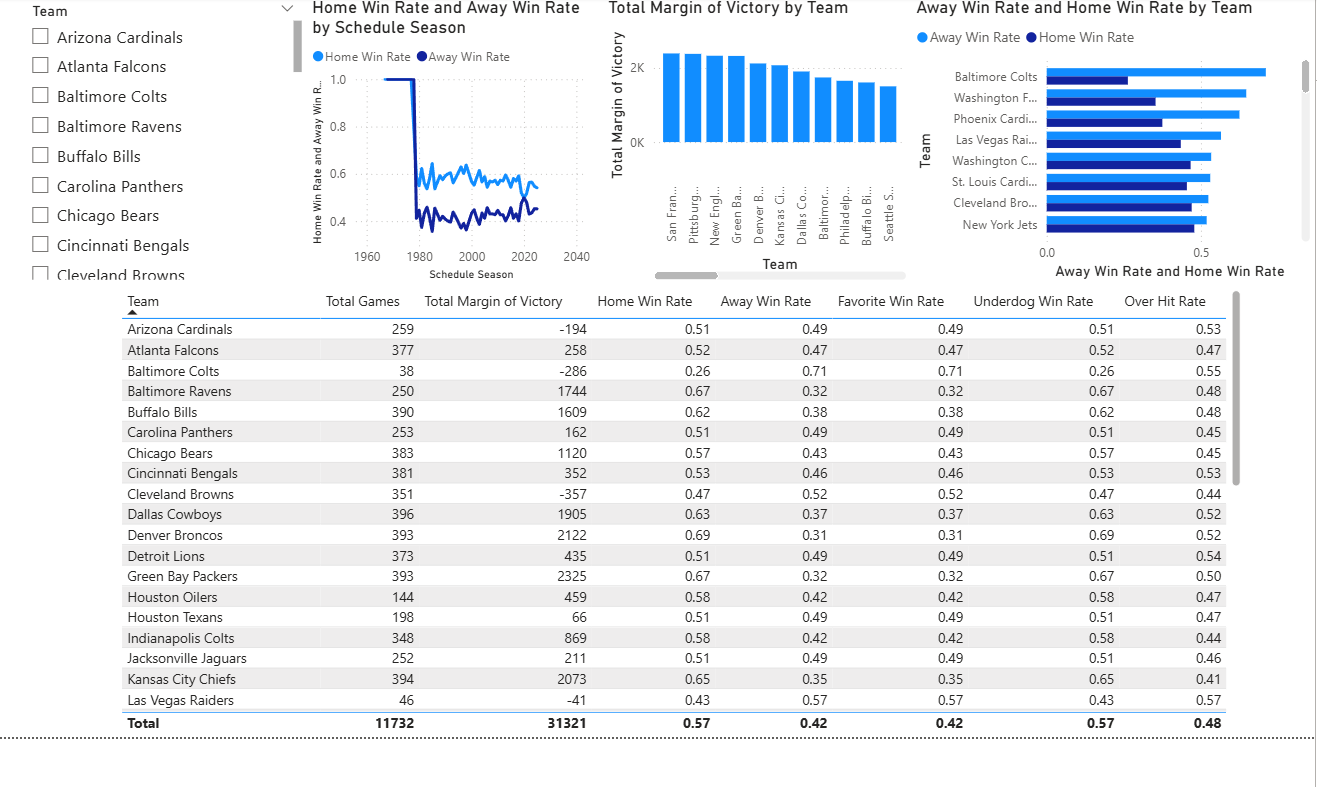

What the dashboard file says about the page in this screenshot:
{"tool":"powerbi","page":{"name":"Team Performance","canvas":[1280,720],"ordinal":1},"visuals":[{"type":"clusteredColumnChart","fields":{"Category":["nfl_sports_betting_final.team_home"],"Y":["Sum(nfl_sports_betting_final.margin_of_victory)"]},"box":[587.5,0,299.6,280.1],"z":0},{"type":"clusteredBarChart","fields":{"Y":["nfl_sports_betting_final.Away Win Rate","nfl_sports_betting_final.Home Win Rate"],"Category":["nfl_sports_betting_final.team_home"]},"box":[887.1,0,392.9,280.1],"z":1},{"type":"tableEx","fields":{"Values":["nfl_sports_betting_final.team_home","nfl_sports_betting_final.Total Games","Sum(nfl_sports_betting_final.margin_of_victory)","nfl_sports_betting_final.Home Win Rate","nfl_sports_betting_final.Away Win Rate","nfl_sports_betting_final.Favorite Win Rate","nfl_sports_betting_final.Underdog Win Rate","nfl_sports_betting_final.Over Hit Rate"]},"box":[113.8,280.1,1099.1,439.6],"z":2},{"type":"lineChart","fields":{"Category":["nfl_sports_betting_final.schedule_season"],"Y":["nfl_sports_betting_final.Home Win Rate","nfl_sports_betting_final.Away Win Rate"]},"box":[300,0,280,280],"z":3},{"type":"slicer","fields":{"Values":["nfl_sports_betting_final.Home Team"]},"box":[19.5,0,280.1,280.1],"z":4}]}

Visuals, with their boxes on the page's 1280x720 design canvas (x1, y1, x2, y2). These are canvas units, not pixel positions in the 1317x787 screenshot, which may show the page scaled, cropped or inside an application window:
clusteredColumnChart - nfl_sports_betting_final.team_home x Sum(nfl_sports_betting_final.margin_of_victory): <box>588,0,887,280</box>
clusteredBarChart - nfl_sports_betting_final.Away Win Rate x nfl_sports_betting_final.Home Win Rate: <box>887,0,1280,280</box>
tableEx - nfl_sports_betting_final.team_home x nfl_sports_betting_final.Total Games: <box>114,280,1213,720</box>
lineChart - nfl_sports_betting_final.schedule_season x nfl_sports_betting_final.Home Win Rate: <box>300,0,580,280</box>
slicer - nfl_sports_betting_final.Home Team: <box>20,0,300,280</box>
